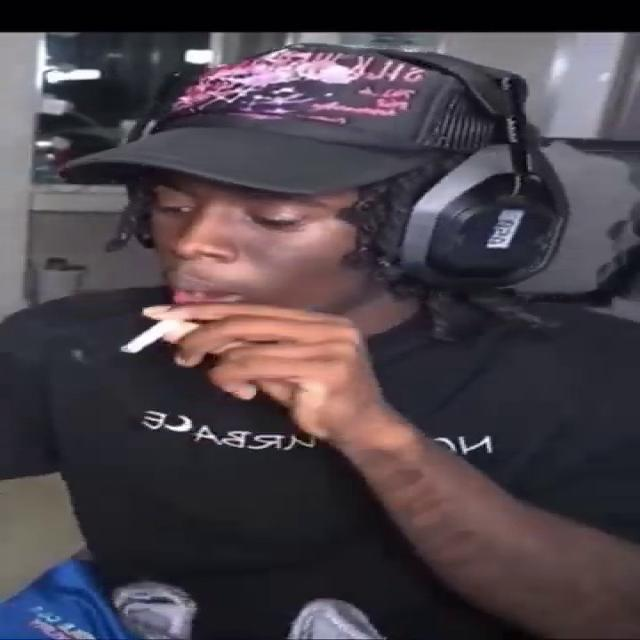Cigarette: (121, 321, 181, 354)
Hand: (138, 301, 388, 441)
Mouth: (163, 267, 255, 304)
